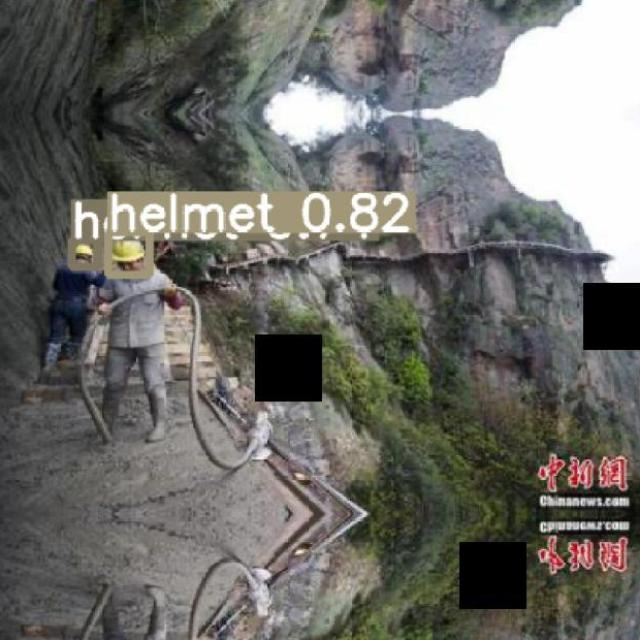helmet: (112, 239, 144, 262), (74, 244, 93, 256)
